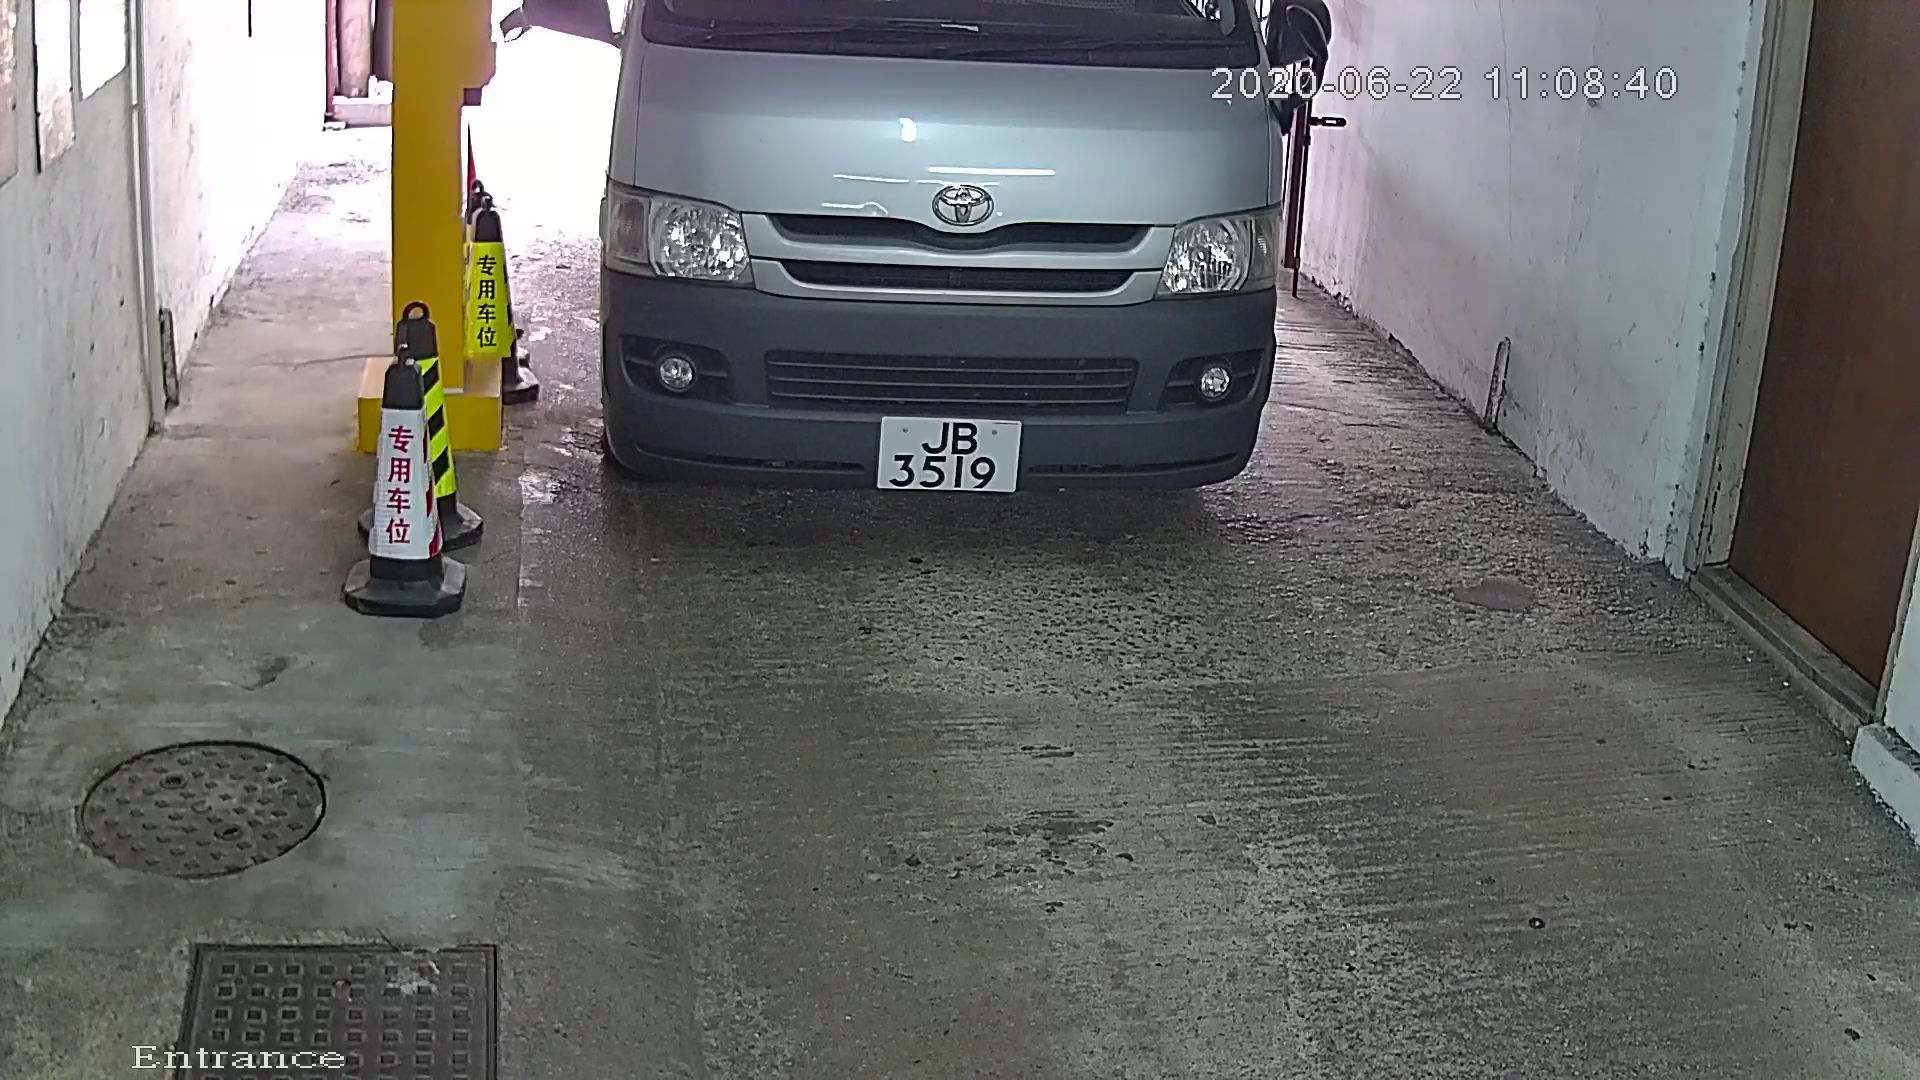van_s: (525, 1, 1353, 531)
